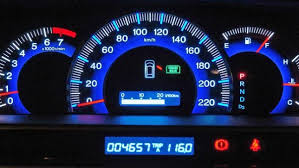Digital_Meter: (103, 137, 203, 157)
